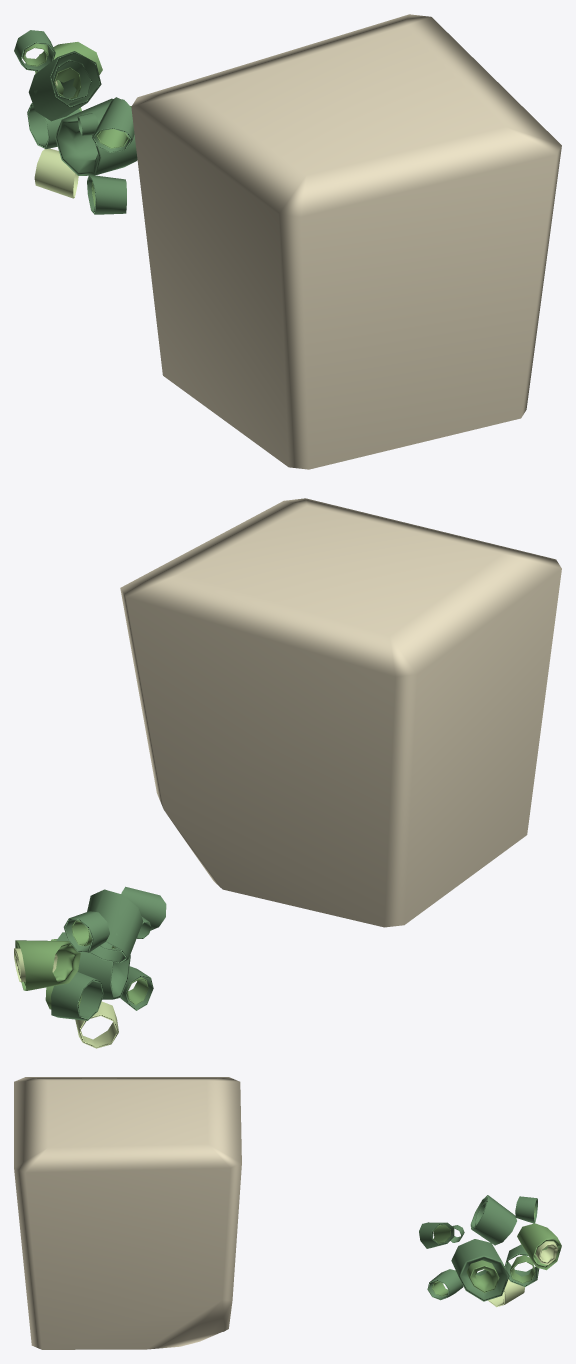
The model's file is Obstacle-Set-5.fbx.
The picture shows the model from 3 angles, top to bottom: view 1: azimuth 30°, elevation 25°; view 2: azimuth 150°, elevation 25°; view 3: azimuth 270°, elevation 25°; orthographic projection. The views are drawn at different scales.
Parts seen in each view (by area): view 1: tofu, chive1; view 2: tofu, chive1; view 3: tofu, chive1.
Part boxes in pixels (x1=…): tofu: x1=131, y1=14, x2=561, y2=469; chive1: x1=14, y1=30, x2=137, y2=214; tofu: x1=120, y1=498, x2=561, y2=927; chive1: x1=14, y1=886, x2=166, y2=1048; tofu: x1=14, y1=1077, x2=241, y2=1349; chive1: x1=419, y1=1195, x2=561, y2=1307.
Size of the model in its own units: 0.7654 by 0.7514 by 1.74.
